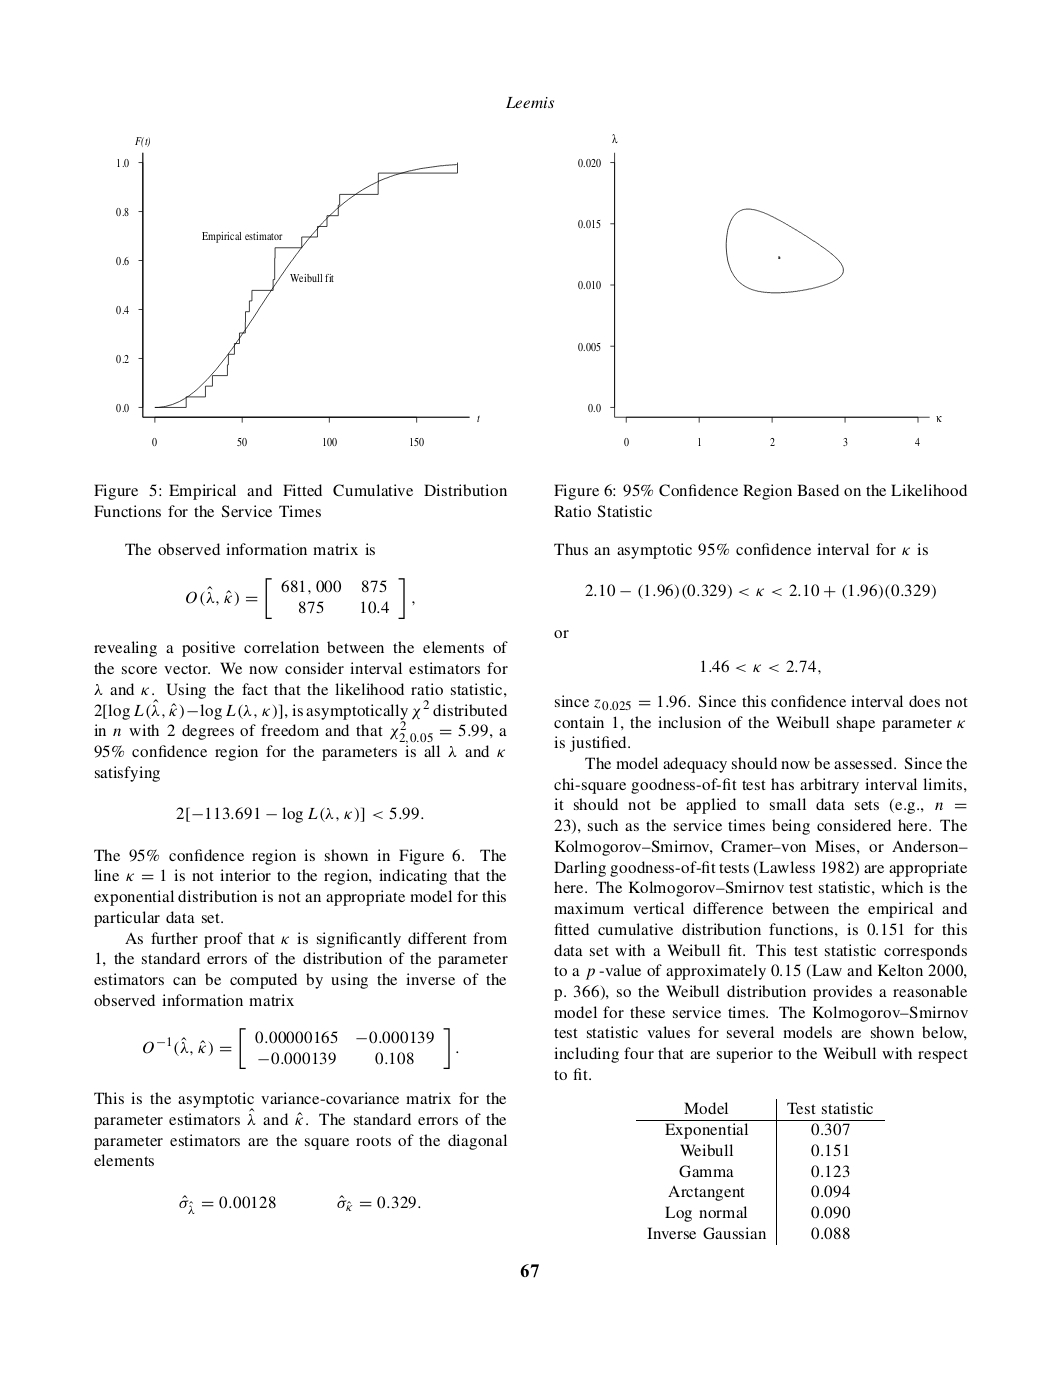Table: (636, 1098, 884, 1245)
figure: (578, 134, 941, 446), (116, 137, 479, 446)
formula: (143, 1028, 458, 1069), (186, 577, 413, 619), (585, 582, 935, 598), (179, 1194, 420, 1214), (176, 805, 424, 822), (701, 659, 820, 675)
